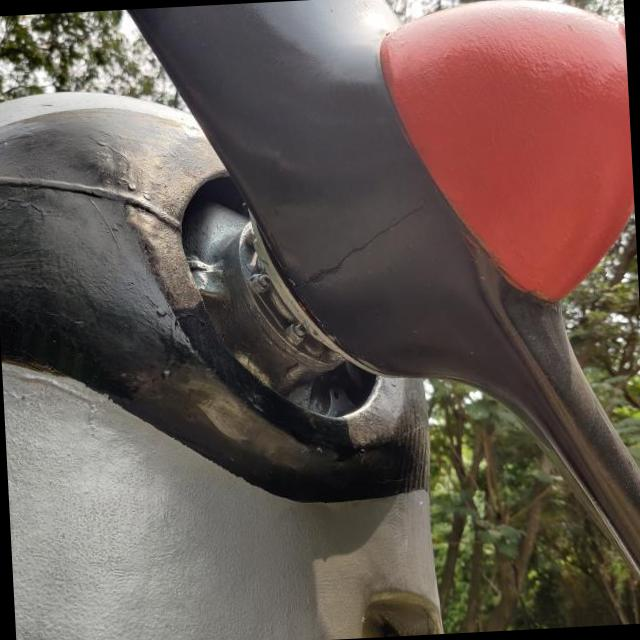Crack: (288, 215, 428, 306)
